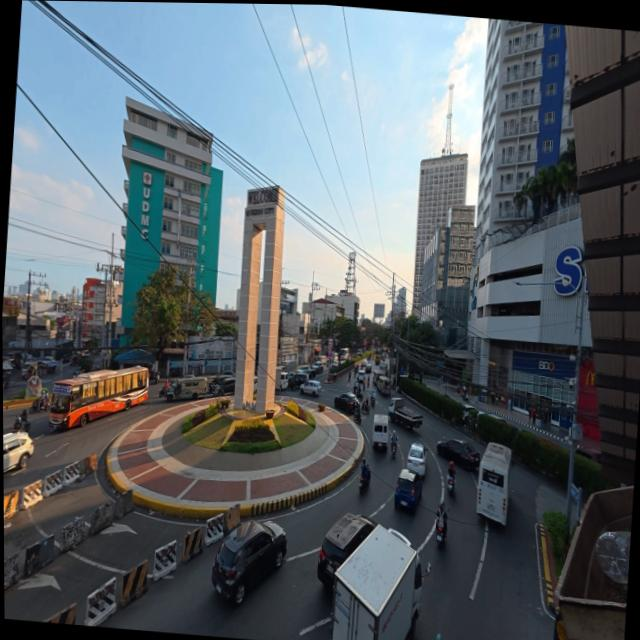bus: (47, 359, 153, 437)
car: (212, 513, 292, 610), (3, 429, 34, 480)
